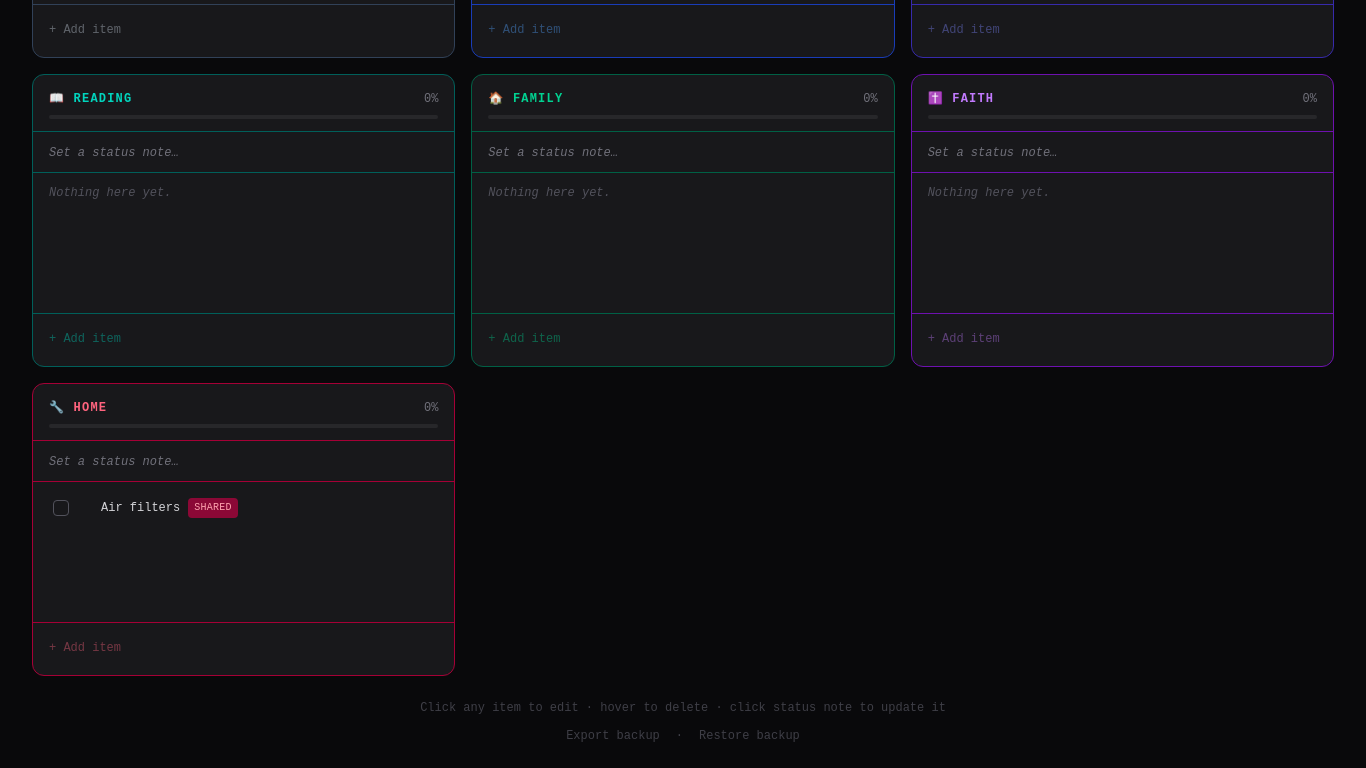
Scenario: My View › marks a task complete and writes the change through
(page scrolled)
Click the button named "mark \"air filters\" complete". click: (61, 508)
box: [53, 500, 69, 516]
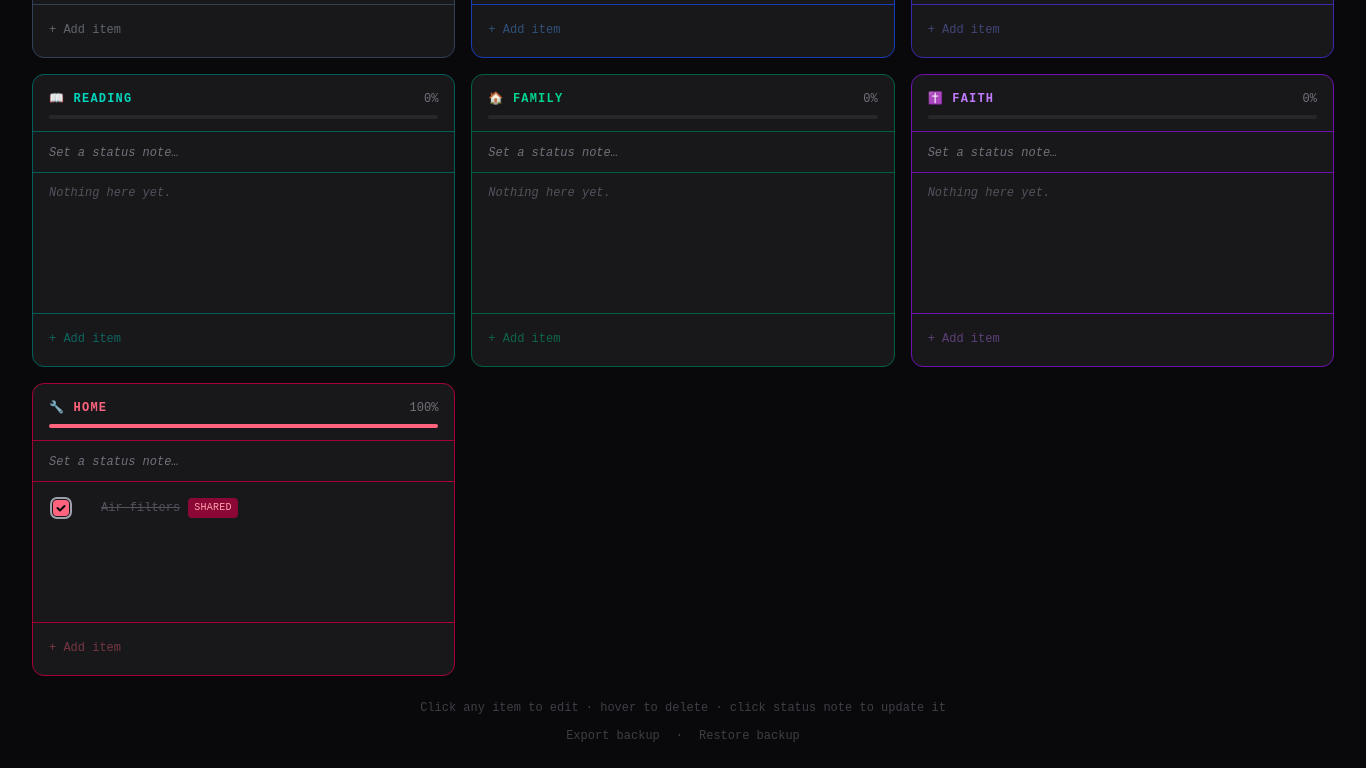
Result: the button named "mark \"air filters\" as not done" is shown at [53, 500, 69, 516]
